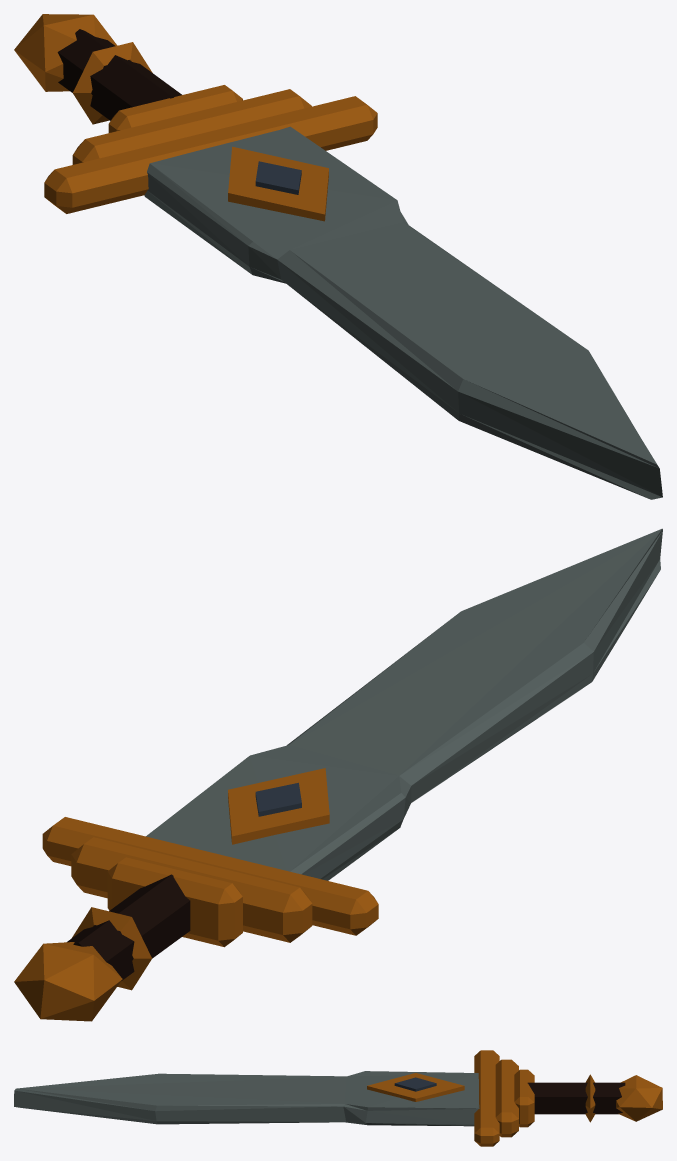
The model's file is Item_AncientEdge.fbx.
3 renders of one model, top to bottom at view 1: azimuth 30°, elevation 25°; view 2: azimuth 150°, elevation 25°; view 3: azimuth 270°, elevation 25°, orthographic. The views are drawn at different scales.
Parts seen in each view (by area): view 1: Item_AncientEdge; view 2: Item_AncientEdge; view 3: Item_AncientEdge.
Part boxes in pixels (x1,y1,x2,y2): Item_AncientEdge: (14,14,662,499); Item_AncientEdge: (14,528,662,1021); Item_AncientEdge: (14,1050,662,1146).
Size of the model in its own units: 0.28 by 0.0606 by 0.9293.
